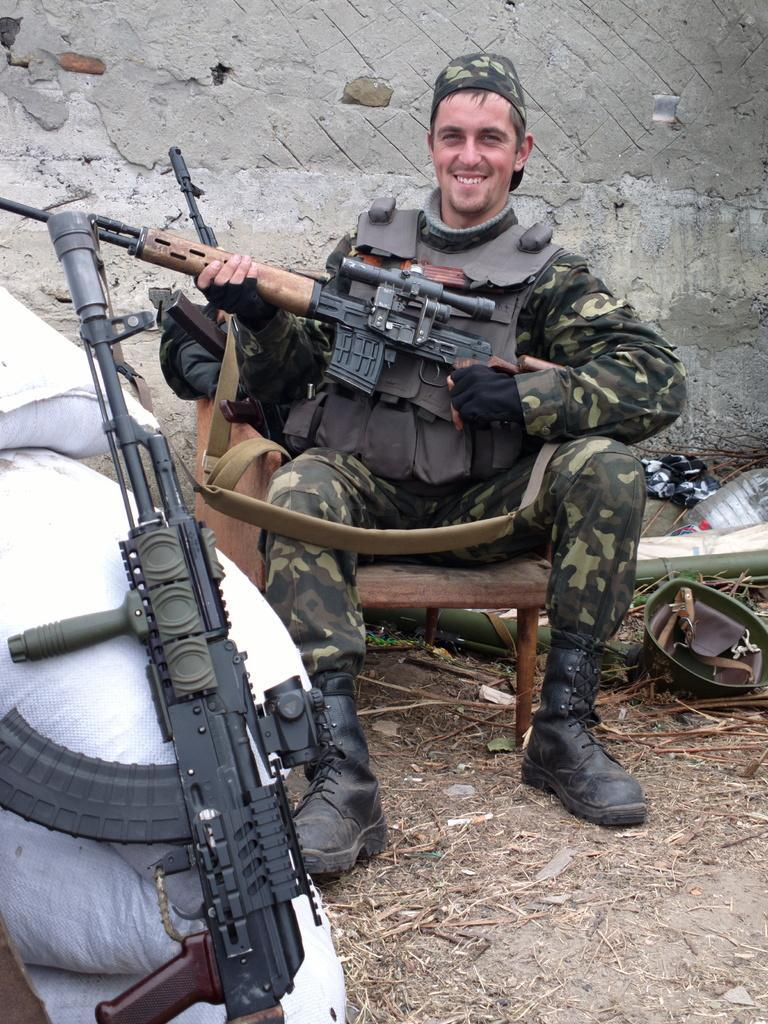gun: (10, 181, 326, 1024), (1, 178, 720, 516)
